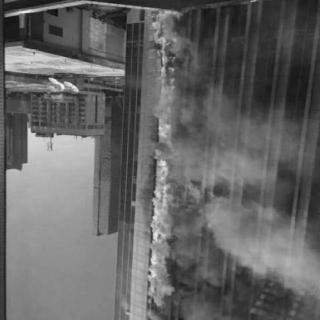Fire: (143, 10, 185, 313)
